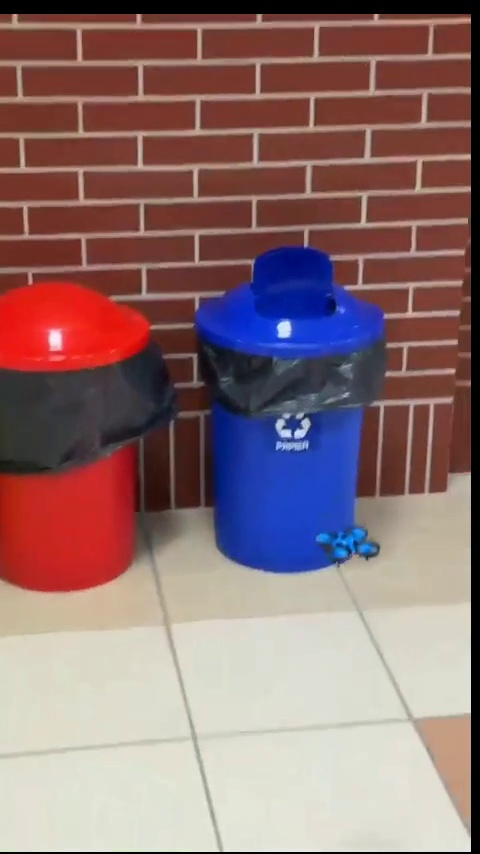drone: (316, 523, 374, 565)
